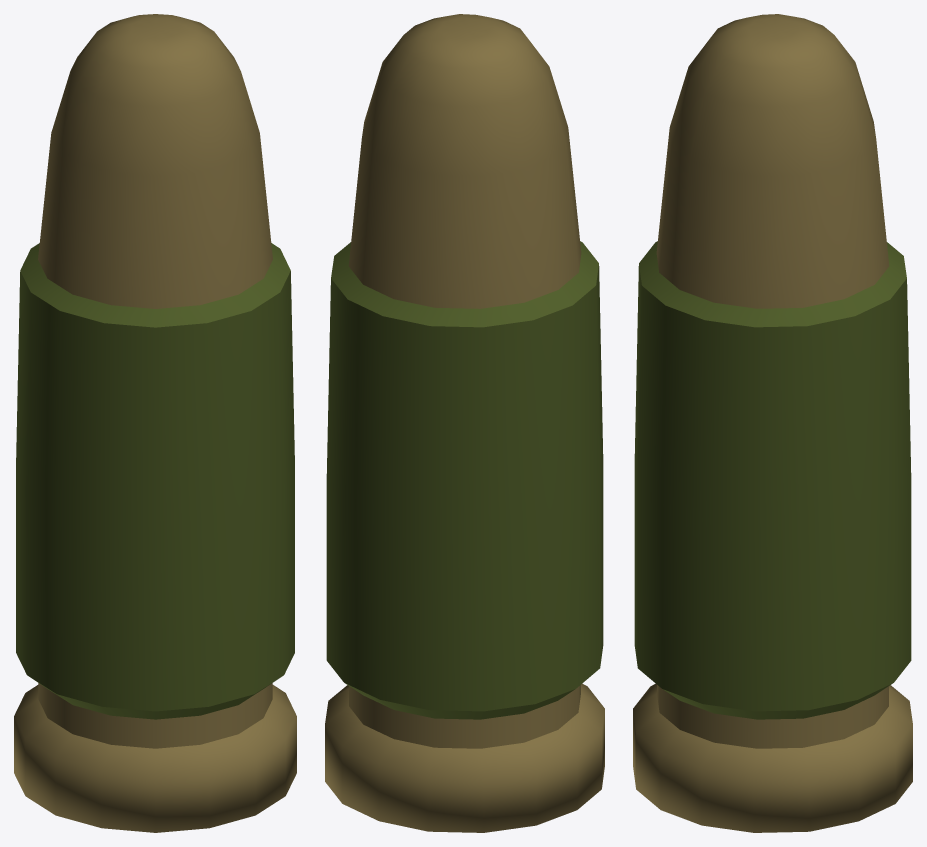
File: bullet-1.fbx
The picture shows the model from 3 angles, left to right: view 1: azimuth 30°, elevation 25°; view 2: azimuth 150°, elevation 25°; view 3: azimuth 270°, elevation 25°; orthographic projection.
Parts seen in each view (by area): view 1: bullet-1; view 2: bullet-1; view 3: bullet-1.
Part boxes in pixels (<box>): bullet-1: <box>14,14,296,832</box>; bullet-1: <box>325,14,604,832</box>; bullet-1: <box>633,14,912,832</box>.
Size of the model in its own units: 0.3288 by 0.9698 by 0.329.
